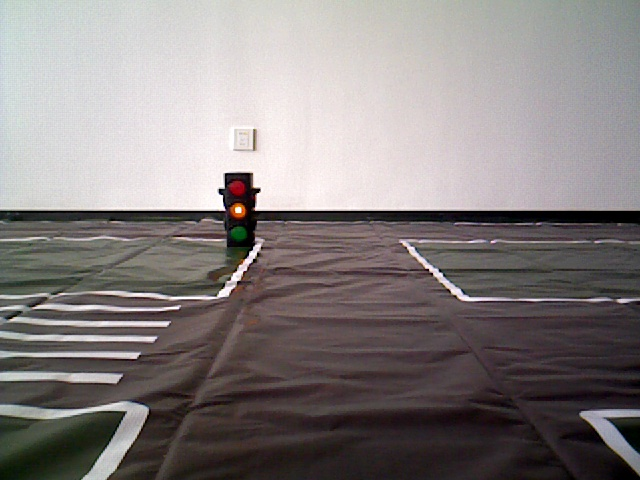yellow: (219, 173, 255, 240)
